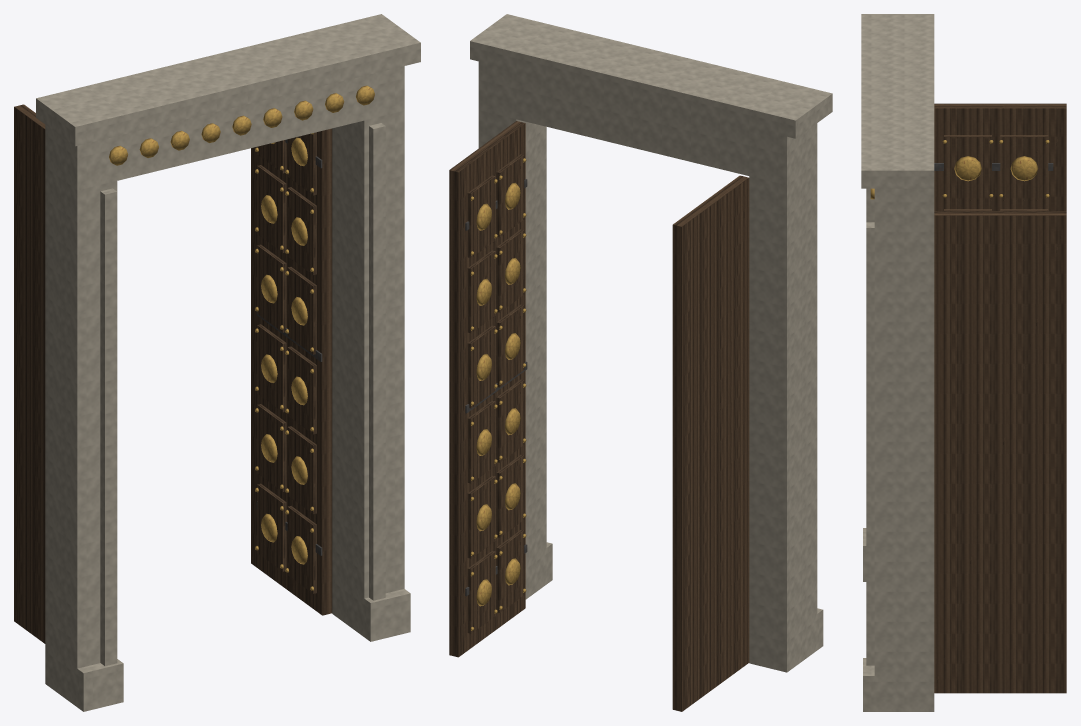
File: Door_Throne_Imperial_1.gltf
3 renders of one model, left to right at view 1: azimuth 30°, elevation 25°; view 2: azimuth 150°, elevation 25°; view 3: azimuth 270°, elevation 25°, orthographic. The views are drawn at different scales.
Visible parts, largest first — view 1: Door_Throne_Imperial_1; view 2: Door_Throne_Imperial_1; view 3: Door_Throne_Imperial_1.
Boxes of the visible parts, x1,y1,x2,y2 form: Door_Throne_Imperial_1: (14,14,420,711); Door_Throne_Imperial_1: (449,14,832,711); Door_Throne_Imperial_1: (861,14,1066,711).
Size of the model in its own units: 11.2 by 18.2 by 6.2.
Materials: 4 (4 with a texture image).
